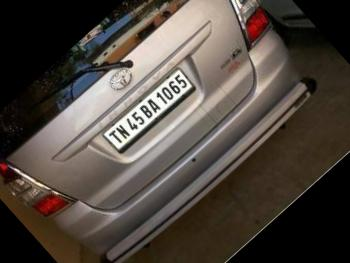plate: (100, 62, 204, 160)
